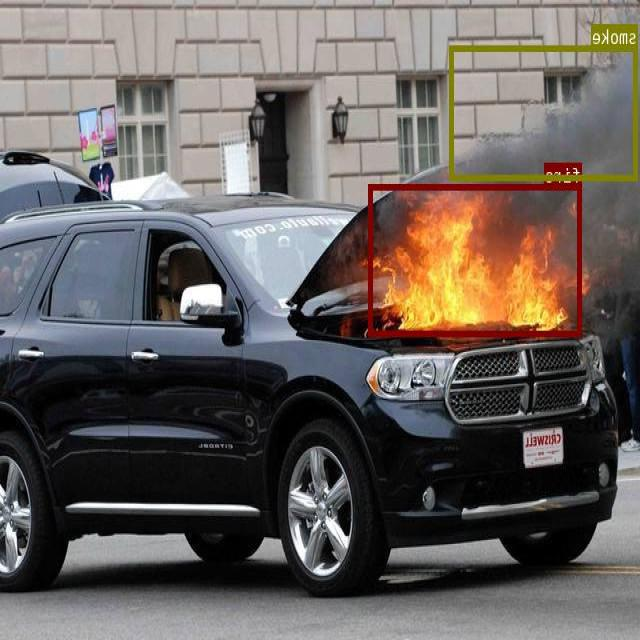fire: (370, 184, 583, 336)
smoke: (450, 45, 638, 180)
